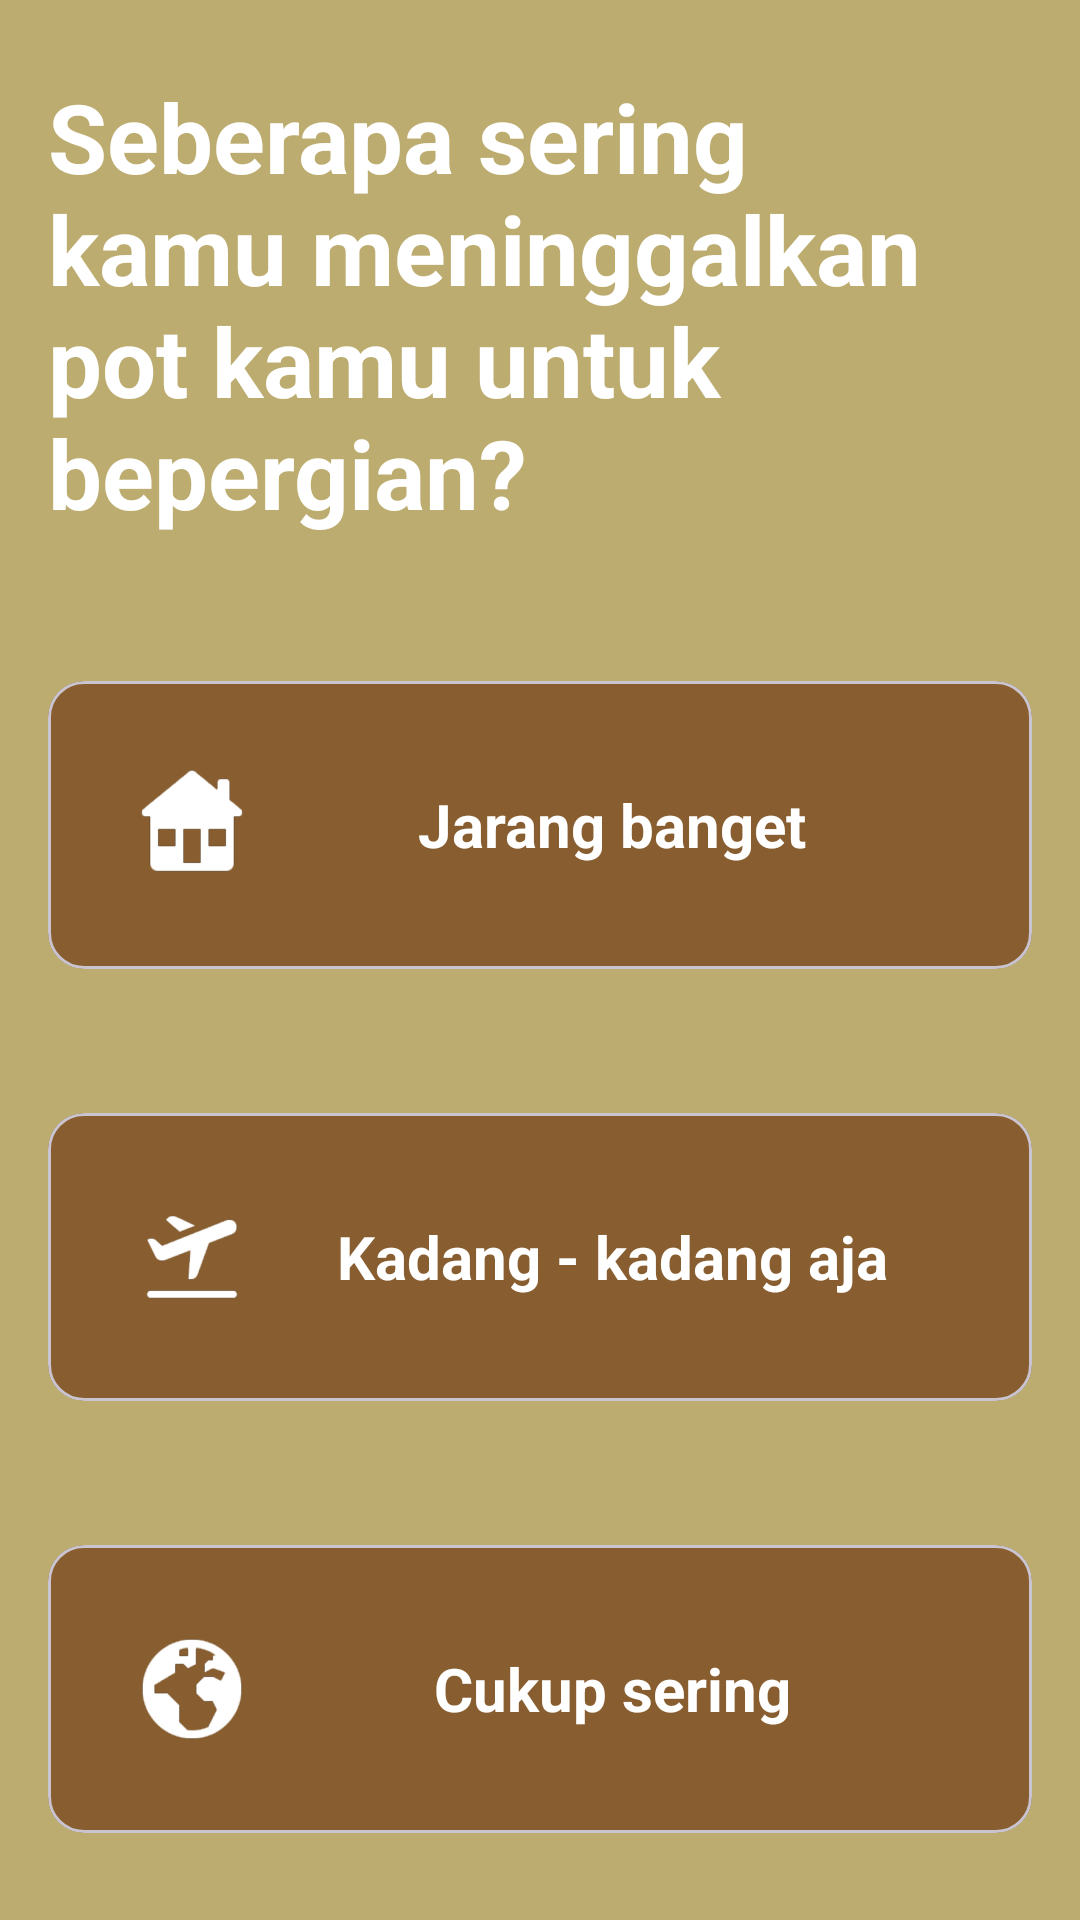

Screen size 1080*1920. Icon name, then its box in pixels as bbox=(x1, y1, x2, y2):
earth onboarding: bbox=(142, 1639, 242, 1739)
home onboarding: bbox=(141, 770, 243, 871)
plane onboarding: bbox=(147, 1216, 237, 1298)
